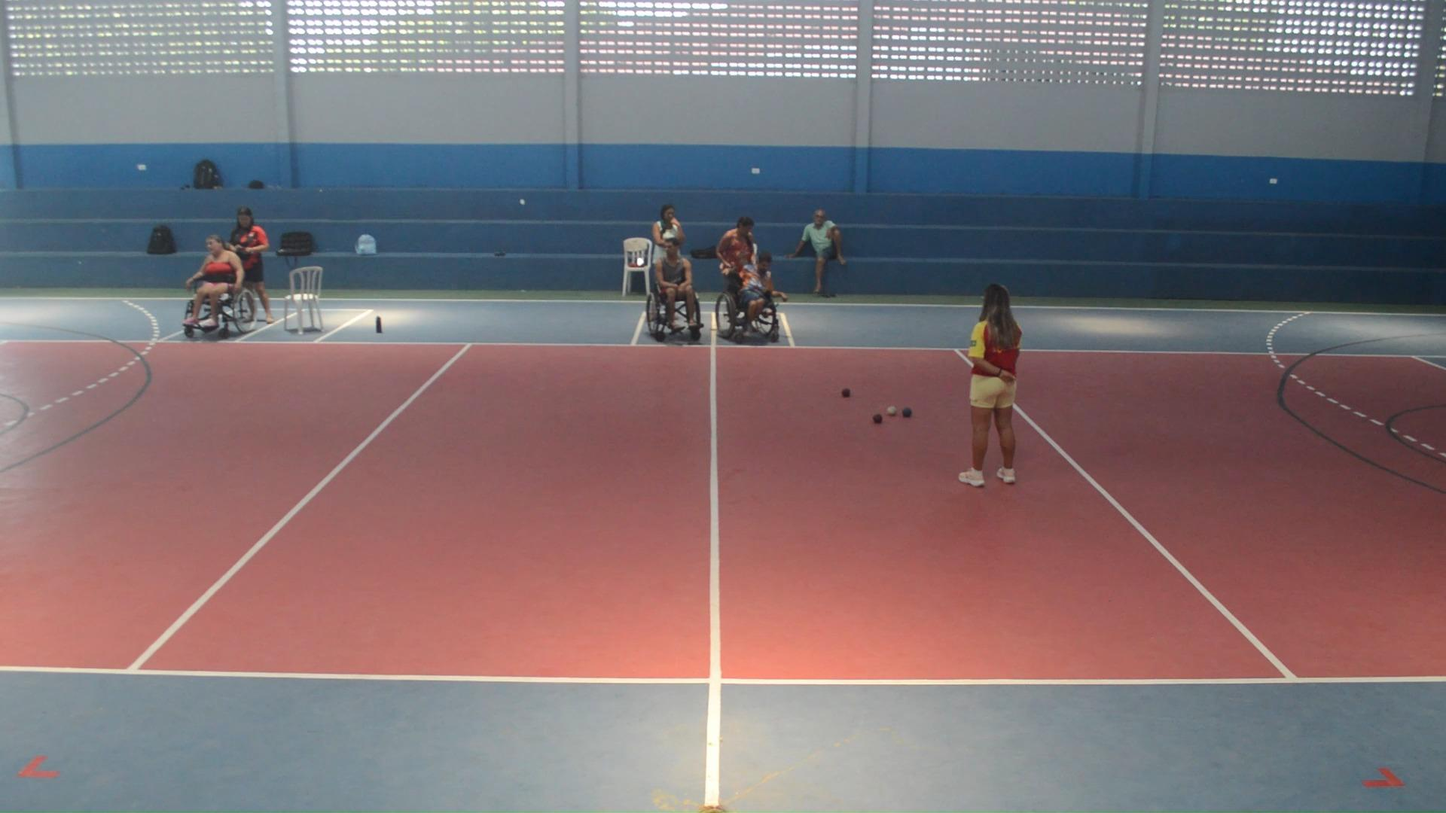blue_ball: (902, 406, 912, 418)
red_ball: (873, 412, 883, 424), (841, 387, 851, 398)
white_ball: (887, 405, 897, 416)
